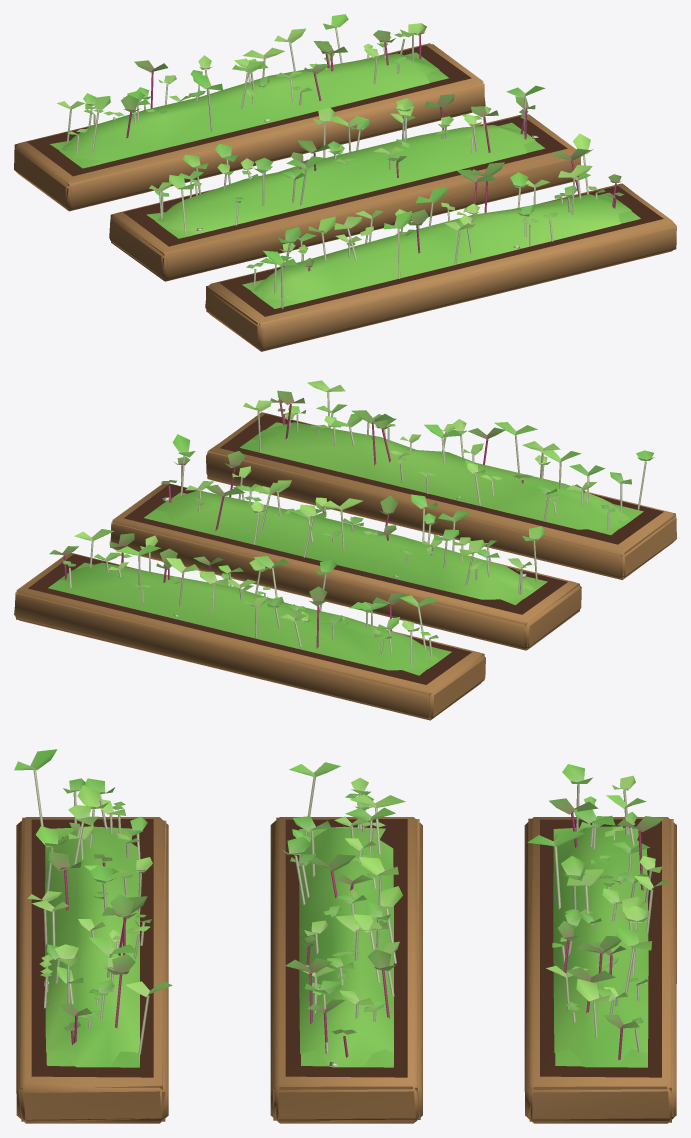
File: crop_microgreens.glb
The picture shows the model from 3 angles, top to bottom: view 1: azimuth 30°, elevation 25°; view 2: azimuth 150°, elevation 25°; view 3: azimuth 270°, elevation 25°; orthographic projection. The views are drawn at different scales.
Parts seen in each view (by area): view 1: stage3, stage0, stage2, stage1; view 2: stage3, stage0, stage2, stage1; view 3: stage3, stage0, stage2, stage1.
Part boxes in pixels (box(x1,y1,x2,y2)): stage3: box(15, 14, 670, 346); stage0: box(14, 45, 676, 351); stage2: box(50, 23, 675, 348); stage1: box(14, 33, 676, 351); stage3: box(19, 380, 671, 694); stage0: box(15, 412, 676, 720); stage2: box(14, 398, 675, 675); stage1: box(15, 408, 675, 719); stage3: box(14, 749, 667, 1122); stage0: box(16, 817, 676, 1123); stage2: box(16, 775, 676, 1123); stage1: box(18, 791, 673, 1122).
Size of the model in its own units: 1.22 by 0.2565 by 1.26.
